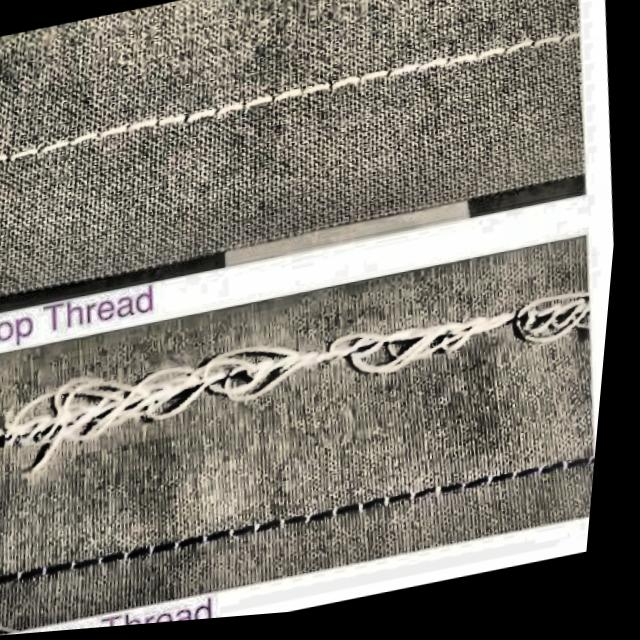Stitch: (0, 329, 332, 505), (316, 284, 604, 416)
